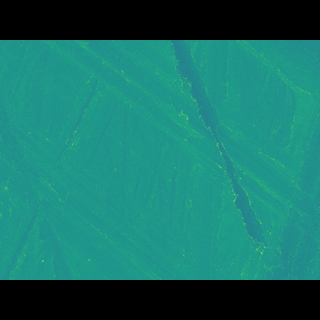Loch: (31, 70, 319, 219), (0, 115, 245, 249), (166, 69, 275, 229), (234, 68, 319, 118)
